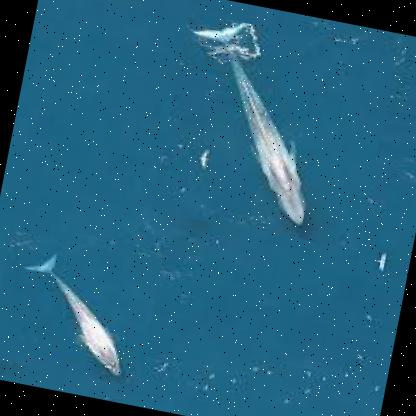blue_whale: (148, 12, 396, 252), (0, 229, 162, 388)
